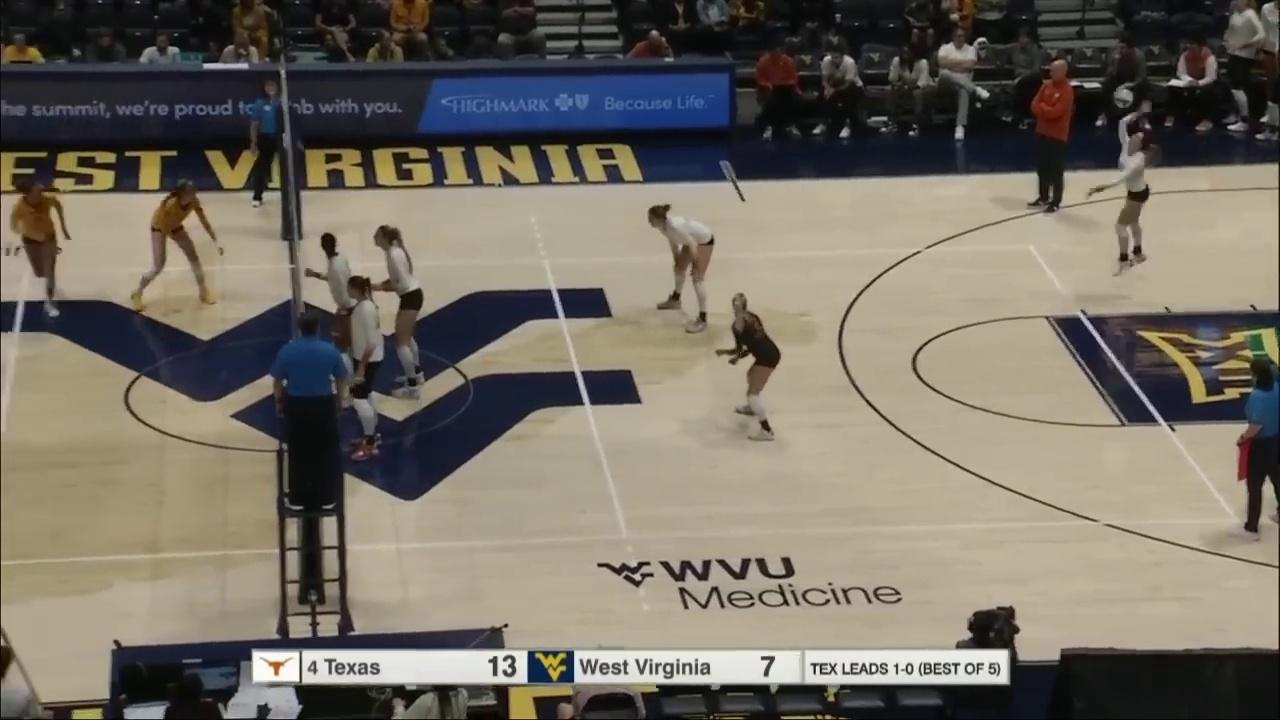player: (128, 180, 225, 311), (716, 293, 781, 446), (646, 207, 720, 334), (337, 273, 385, 463), (373, 224, 424, 401), (1100, 120, 1154, 275), (315, 235, 362, 405), (14, 180, 71, 318)
refree: (270, 320, 348, 513), (1232, 355, 1280, 546), (249, 79, 297, 207)
